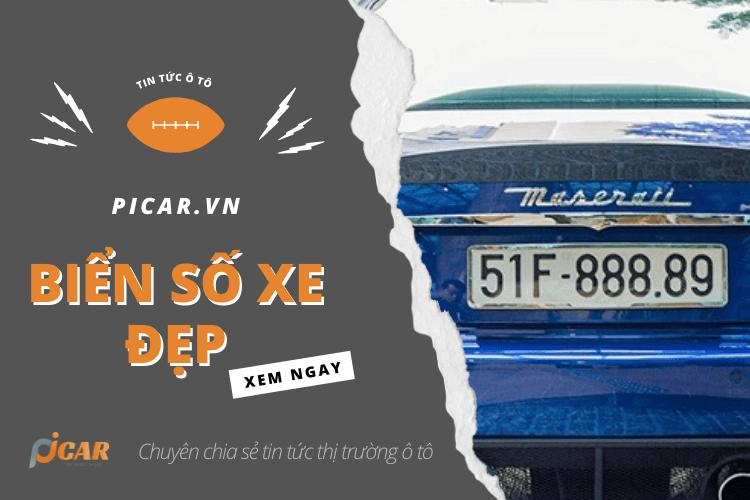numplate: (464, 239, 727, 309)
